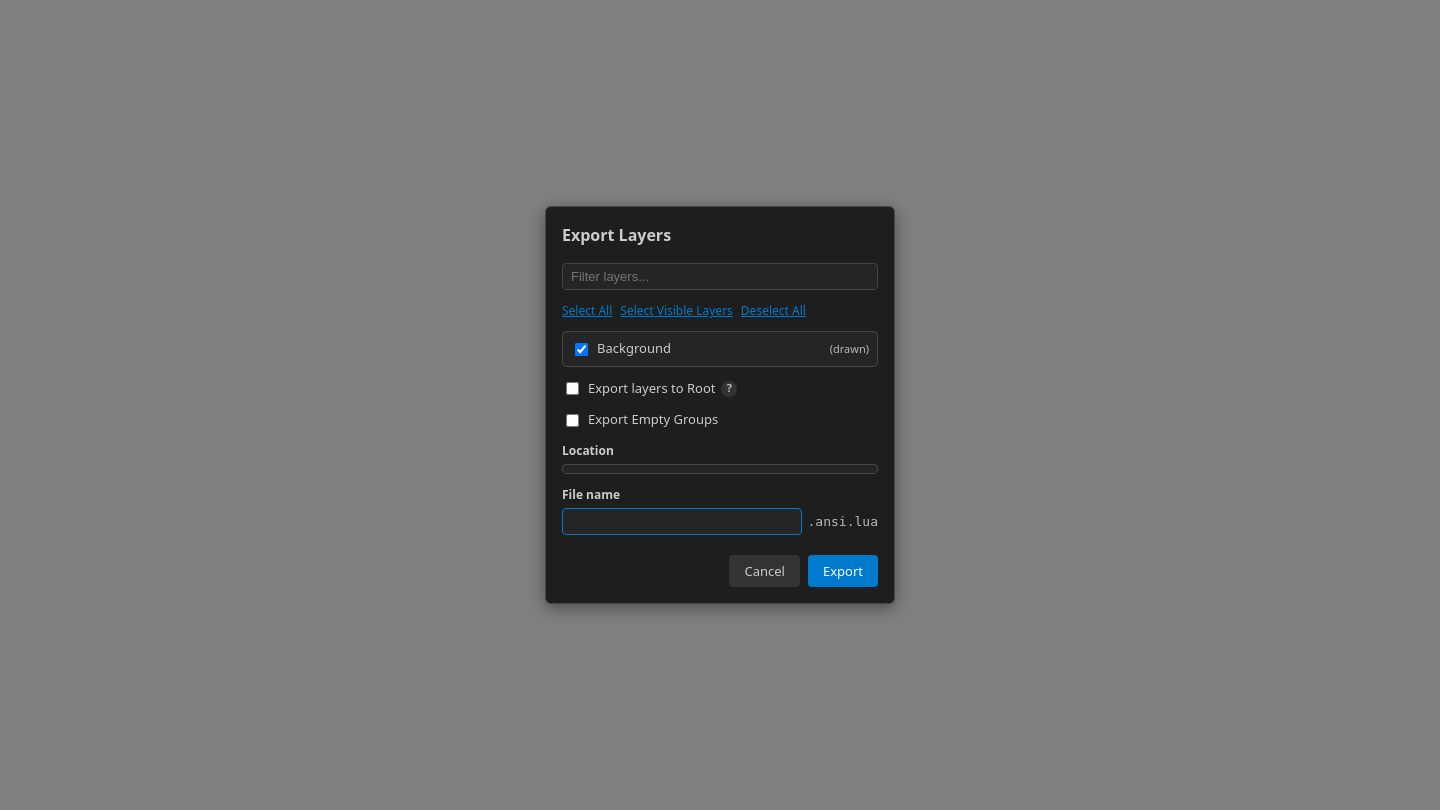
Test: ExportLayersDialog › shows error when filename is empty and confirm is clicked
The width and height of the screenshot is (1440, 810).
Click the button with test id "export-confirm-button": [843, 571] box x1=808 y1=555 x2=878 y2=587
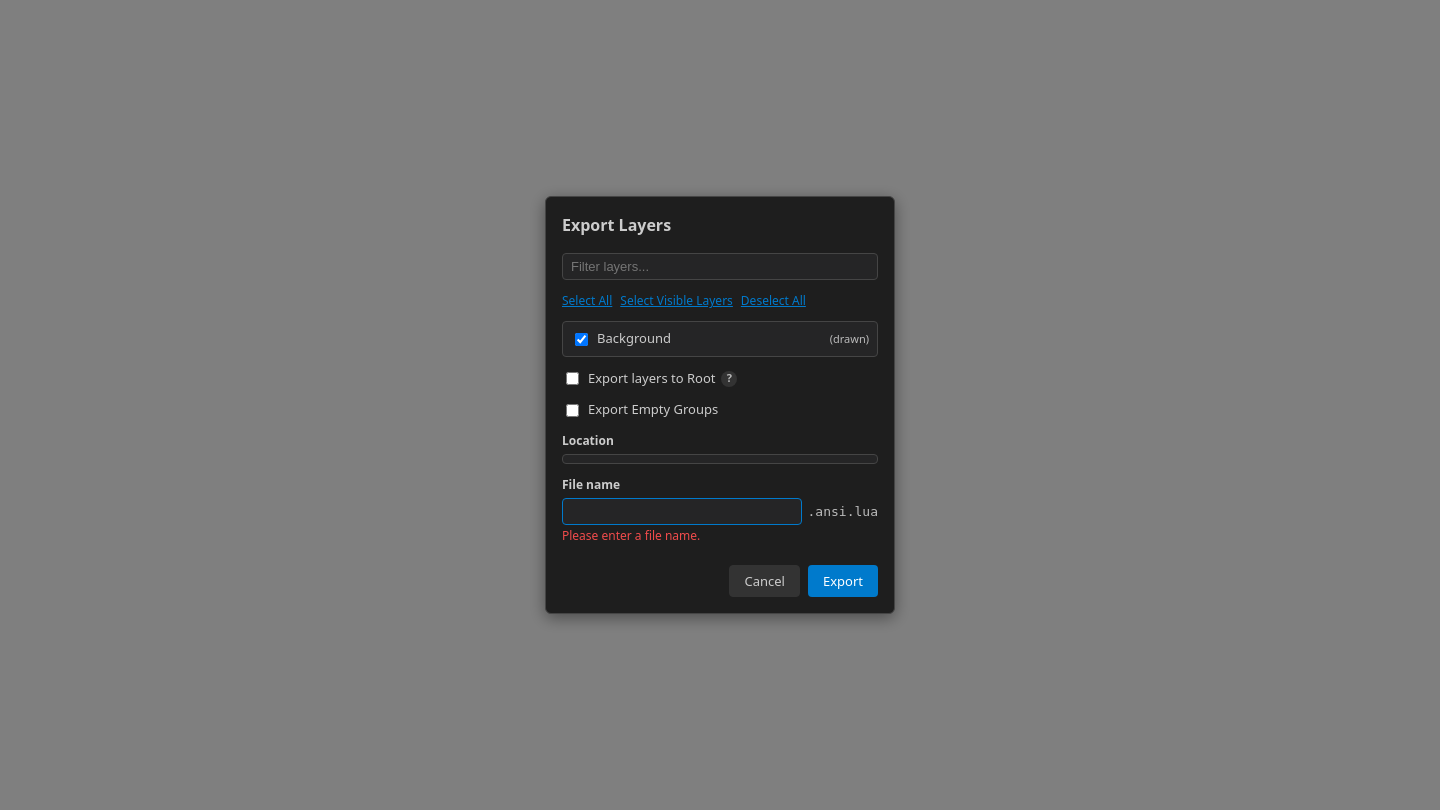
Now the text "Please enter a file name." is shown, box x1=562 y1=527 x2=700 y2=544
